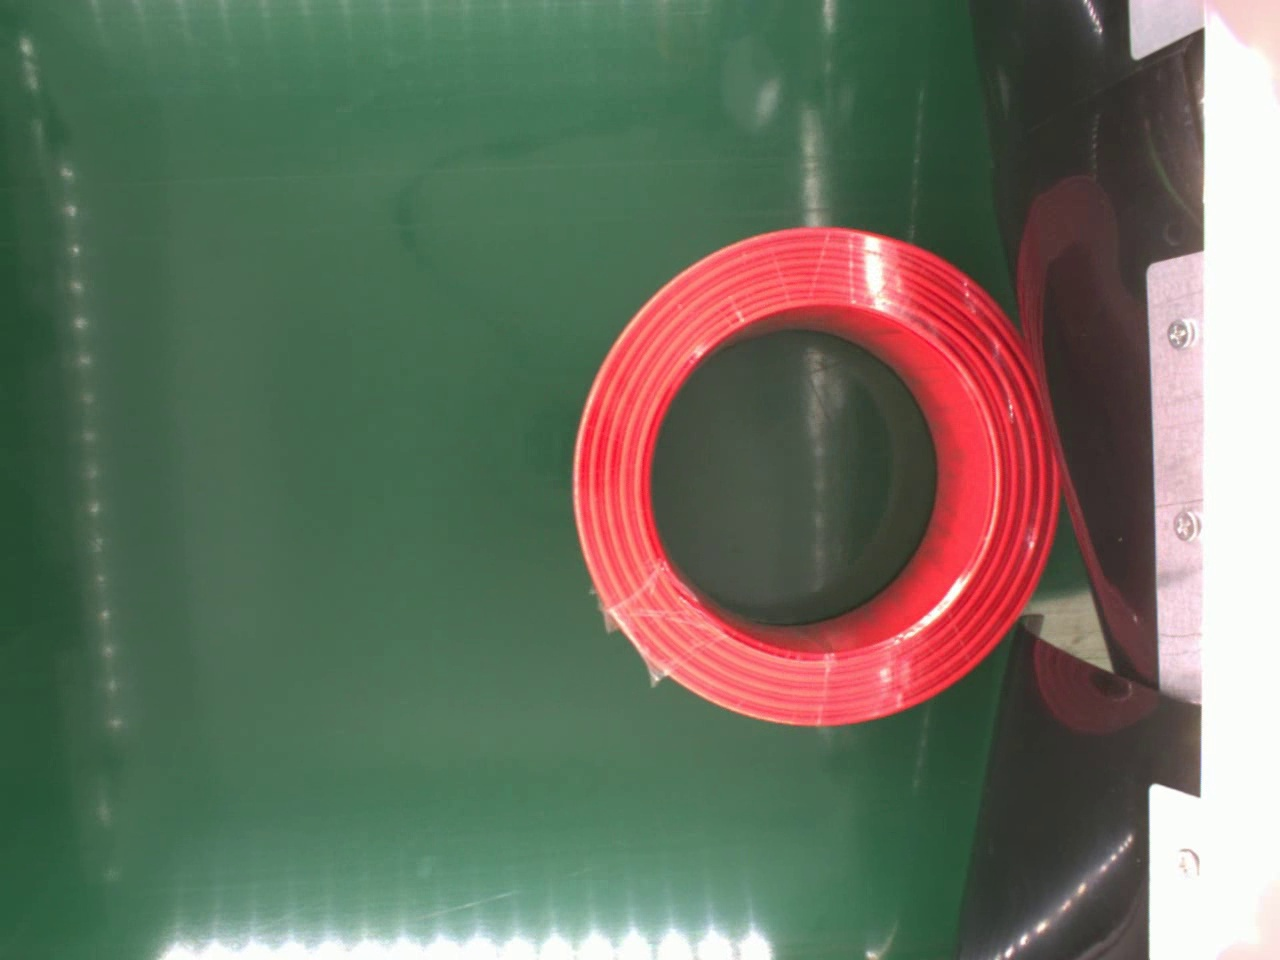red: (569, 223, 1067, 728)
